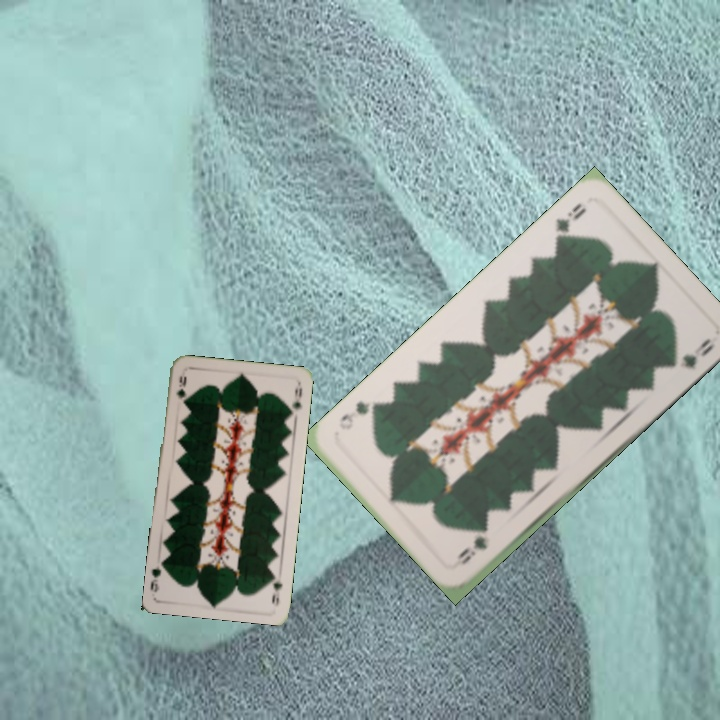G9: (551, 198, 589, 247), (455, 532, 490, 568), (268, 568, 285, 609), (172, 372, 188, 401)
